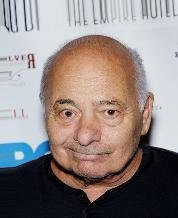face: (53, 96, 122, 162)
